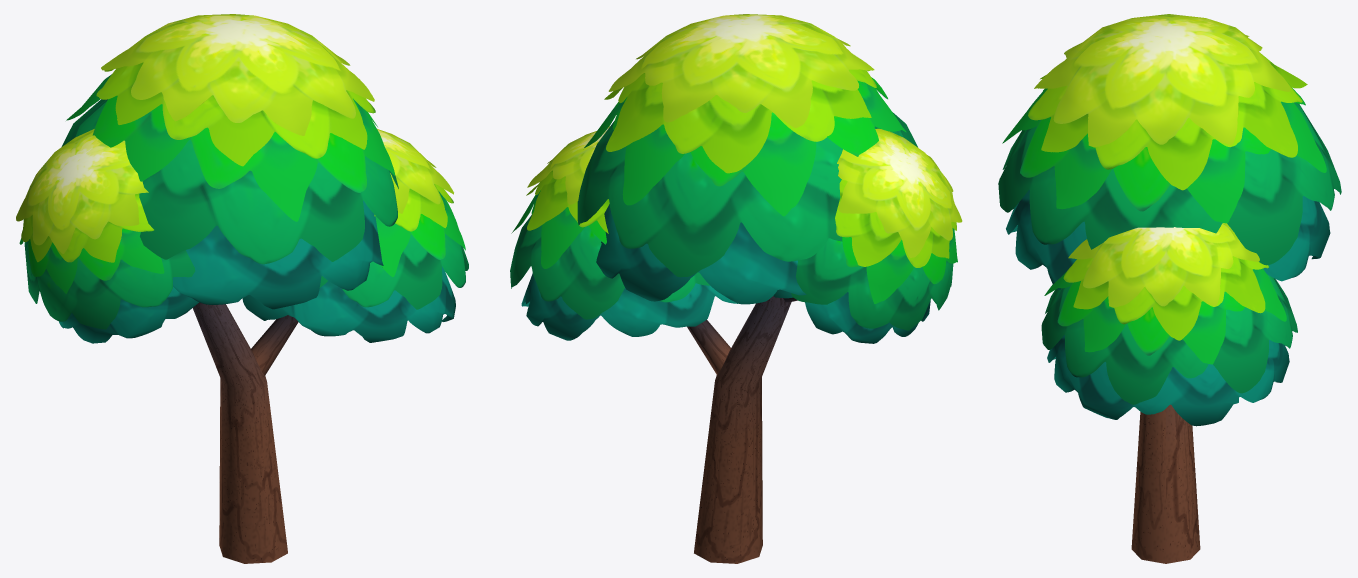
The model's file is tree5.fbx.
The picture shows the model from 3 angles, left to right: view 1: azimuth 30°, elevation 25°; view 2: azimuth 150°, elevation 25°; view 3: azimuth 270°, elevation 25°; orthographic projection. The views are drawn at different scales.
Visible parts, largest first — view 1: Circle.002, Cylinder.002; view 2: Circle.002, Cylinder.002; view 3: Circle.002, Cylinder.002.
Boxes of the visible parts, <box> form: Circle.002: <box>16,14,468,343</box>; Cylinder.002: <box>193,302,298,563</box>; Circle.002: <box>510,14,962,343</box>; Cylinder.002: <box>687,296,797,563</box>; Circle.002: <box>998,14,1341,426</box>; Cylinder.002: <box>1131,404,1200,563</box>.
Size of the model in its own units: 1116 by 1302 by 813.
